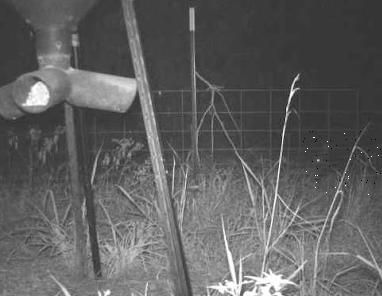Hog: (303, 131, 382, 195)
